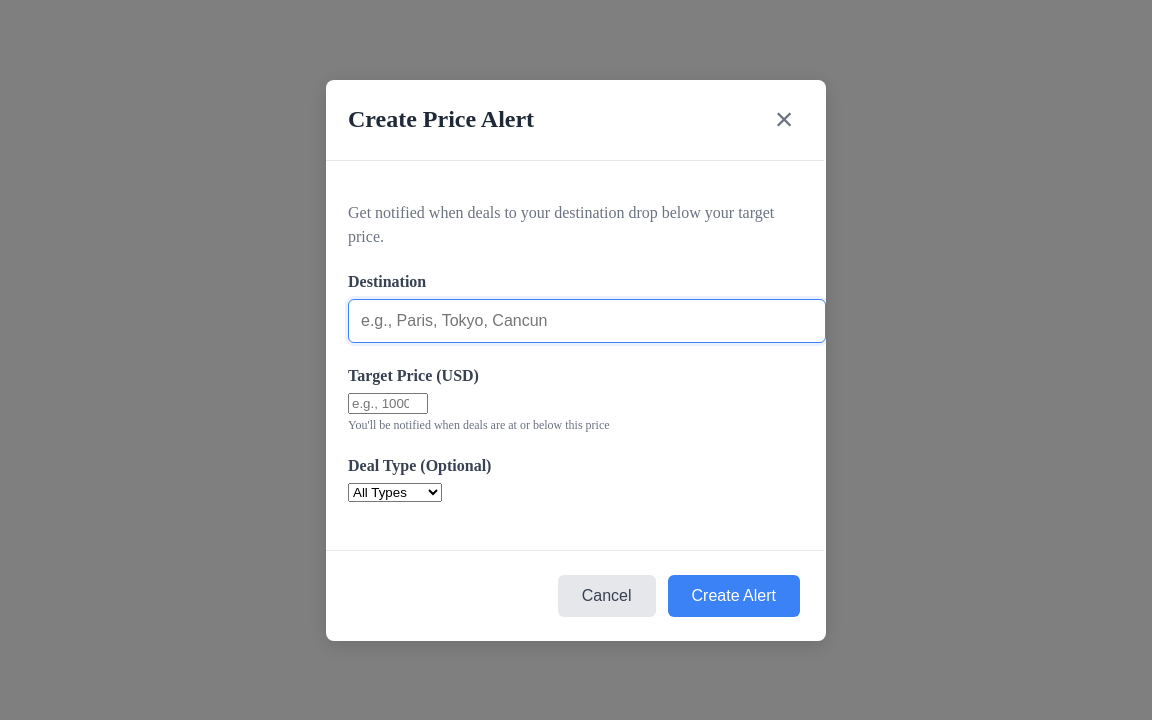
Test case: CreateAlertModal › validates empty destination
The width and height of the screenshot is (1152, 720).
Click the button "Create Alert". click: (734, 596)
box: [668,574,800,616]
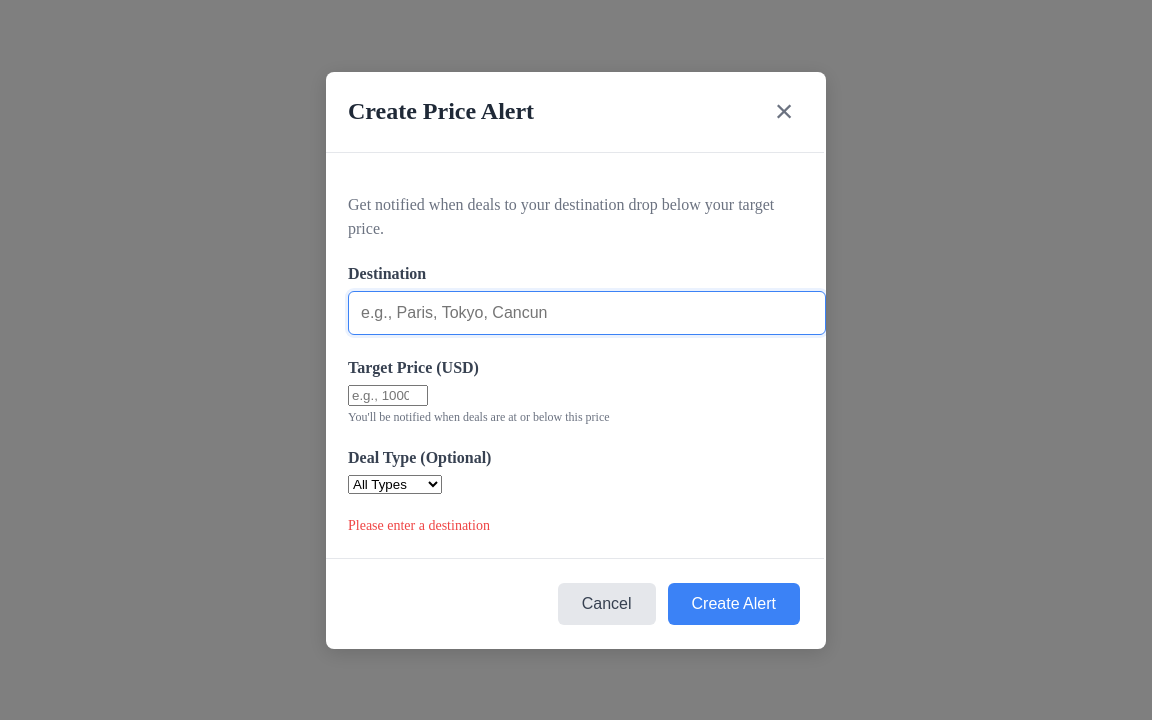
Check: the text "Please enter a destination" is shown, box [348,518,490,532]
